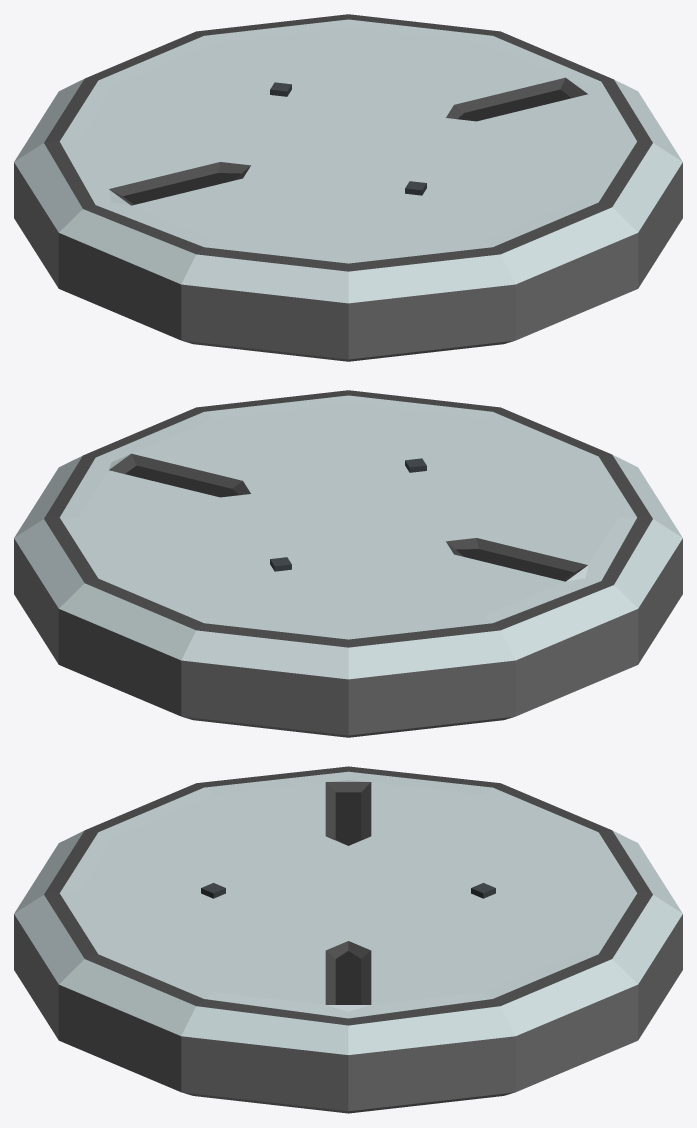
File: Manhole_01.glb
The picture shows the model from 3 angles, top to bottom: view 1: azimuth 30°, elevation 25°; view 2: azimuth 150°, elevation 25°; view 3: azimuth 270°, elevation 25°; orthographic projection.
Parts seen in each view (by area): view 1: Manhole_01; view 2: Manhole_01; view 3: Manhole_01.
Boxes of the visible parts, x1,y1,x2,y2 form: Manhole_01: (14,14,682,361); Manhole_01: (14,390,682,737); Manhole_01: (14,766,682,1113).
Size of what is drawn, in the model's own units: 1.53 by 0.2368 by 1.53.
1 material, 1 textured.
